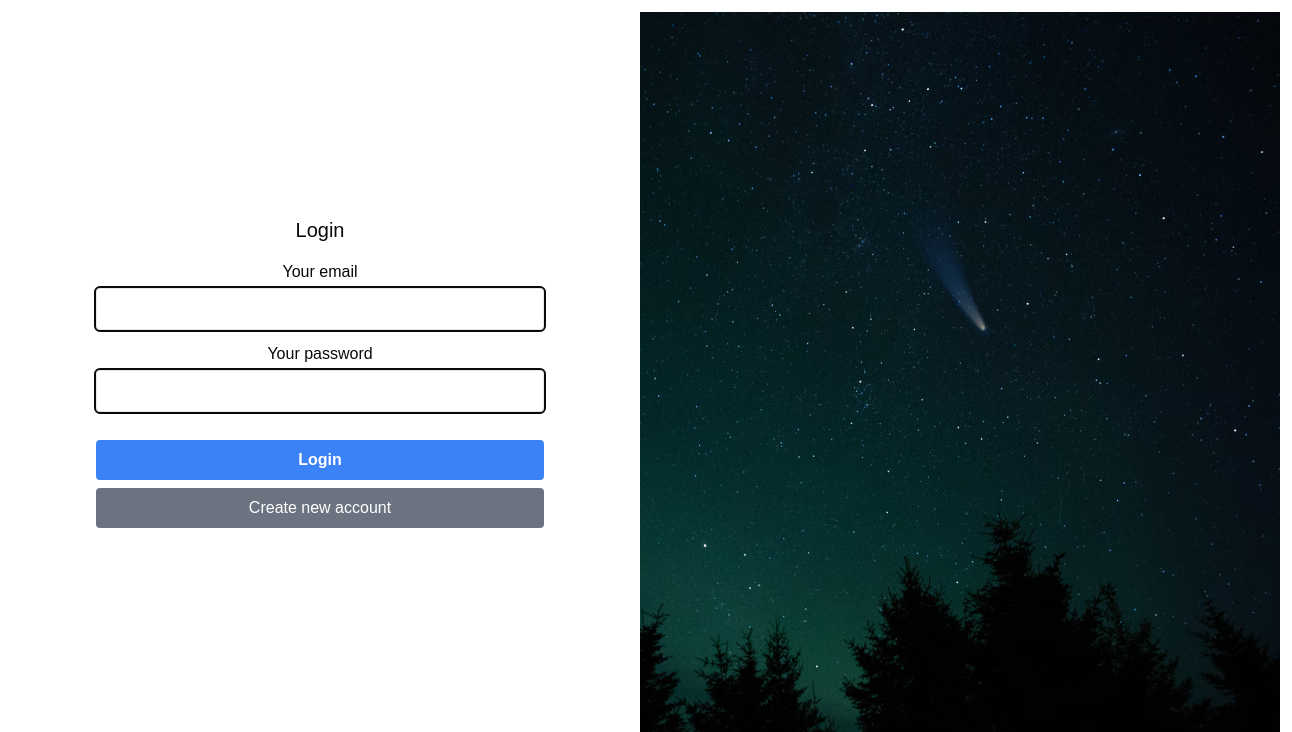
Test: Form › shows an error message when there is no email or password
In the password field labelled "Your password": (320, 391) [96, 370, 544, 412], type "short"
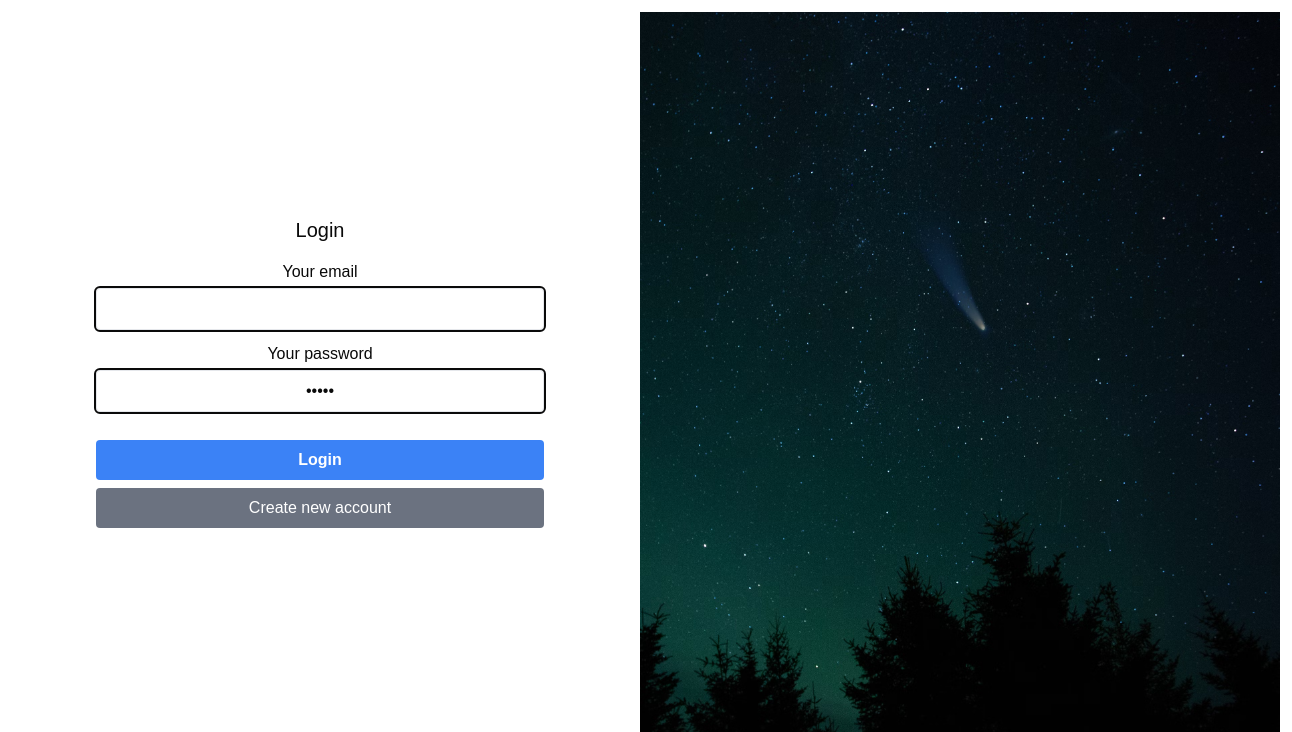
Click the button with test id "button-switch": (320, 460) [96, 440, 544, 480]
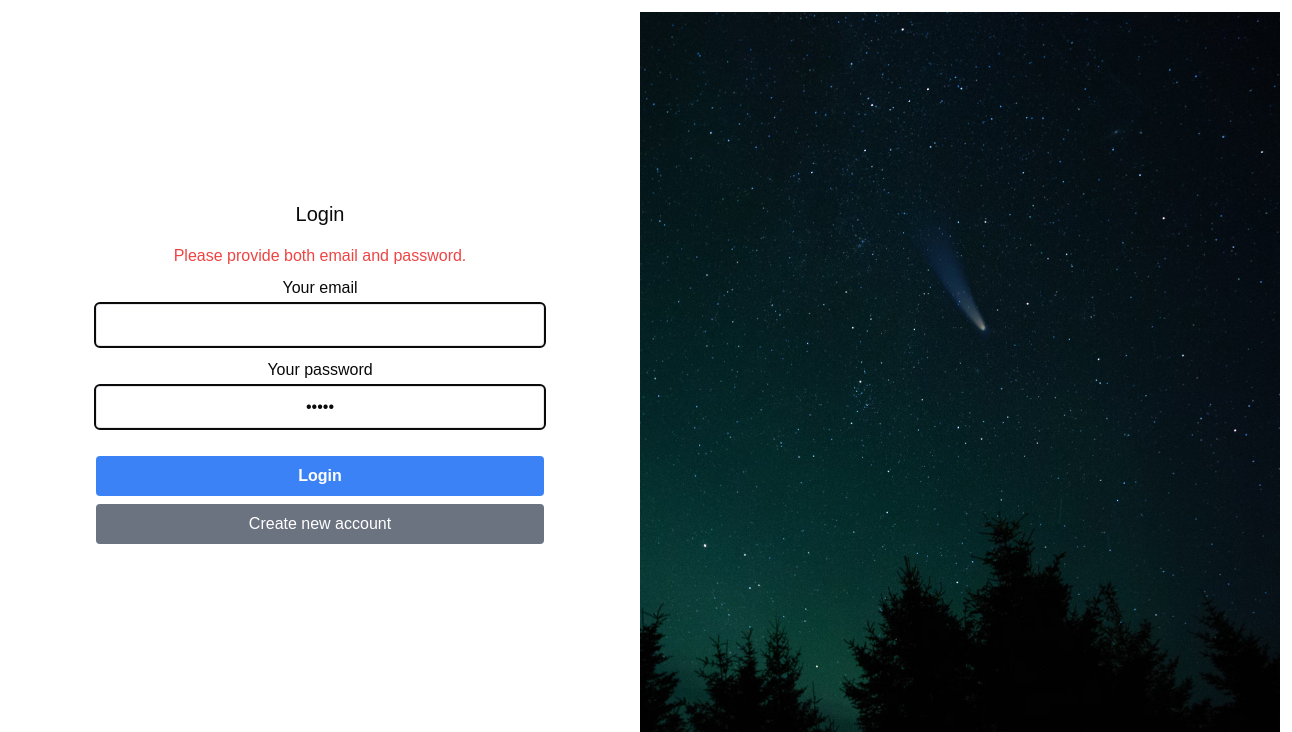
Check: the text with test id "error-msg" reads "Please provide both email and password.", box [174, 247, 466, 264]
